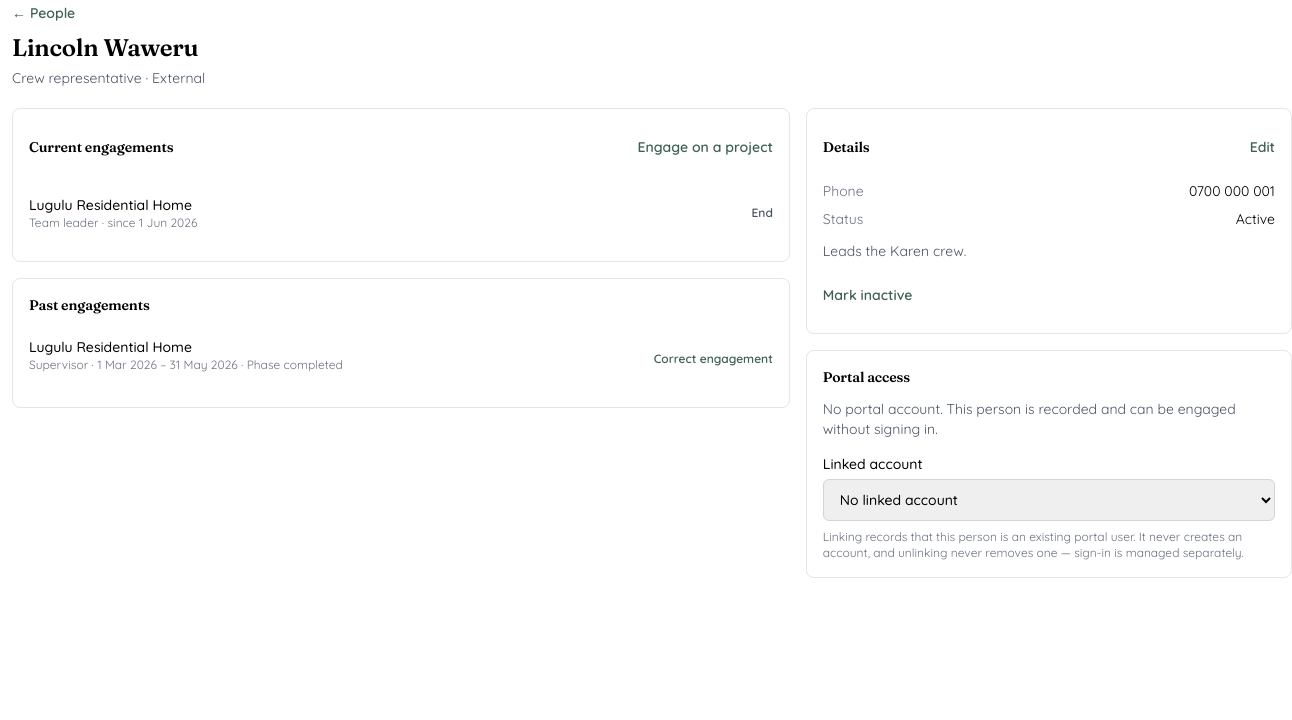
Test case: Person detail › lets the Principal link a portal account as a separate deliberate action
Select "Martine Lotom" in the dropdown labelled "Linked account" at (1049, 500), box [823,479,1275,521]
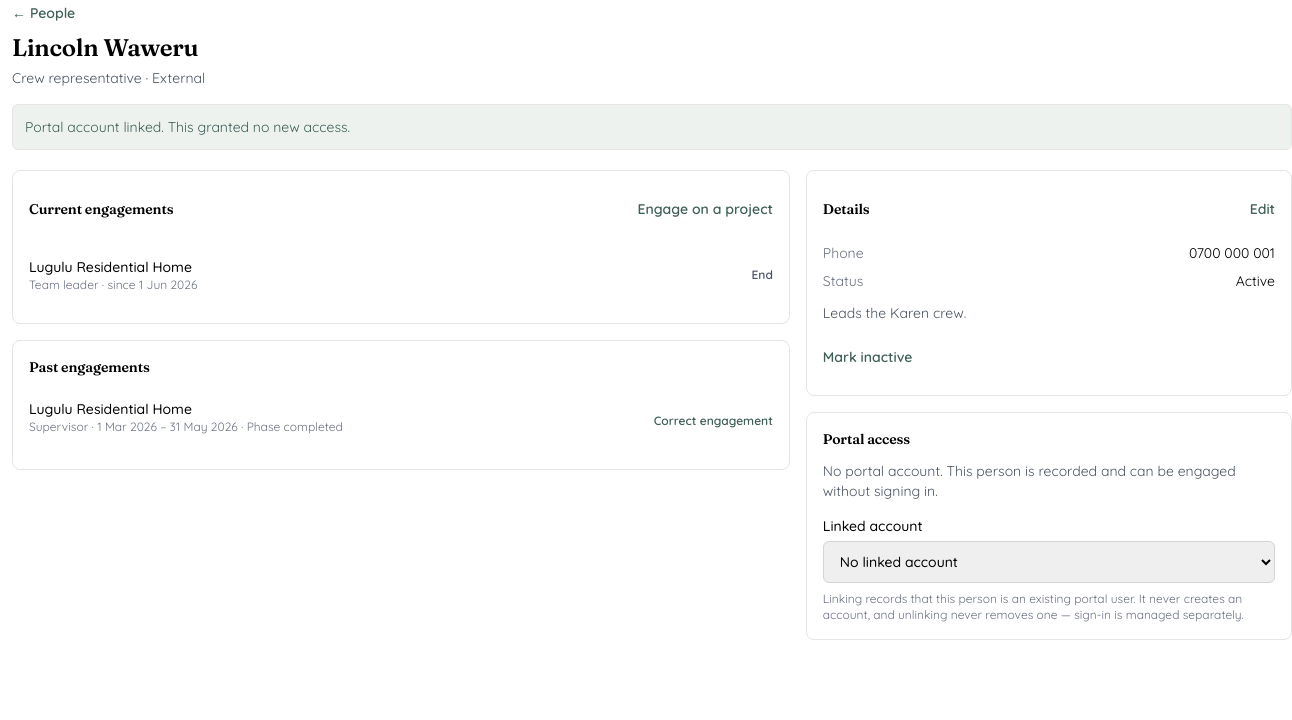
Expected: the text "Portal account linked. This granted no new access." is shown, [12,104,1291,150]
